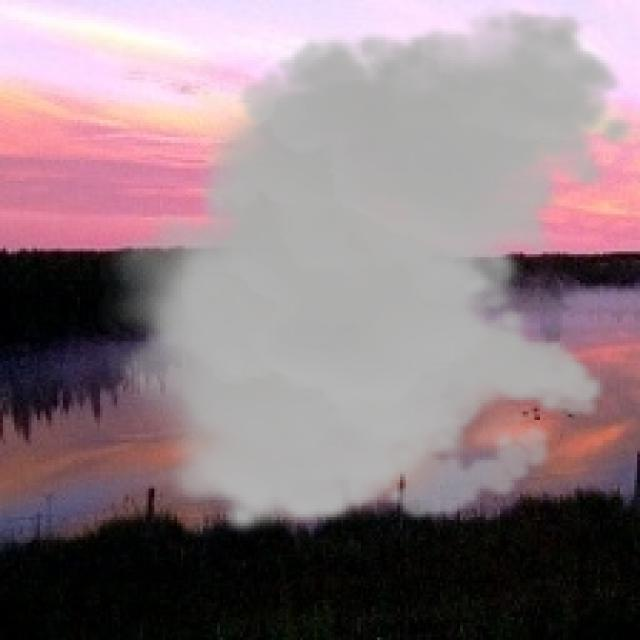smoke: (97, 6, 637, 540)
